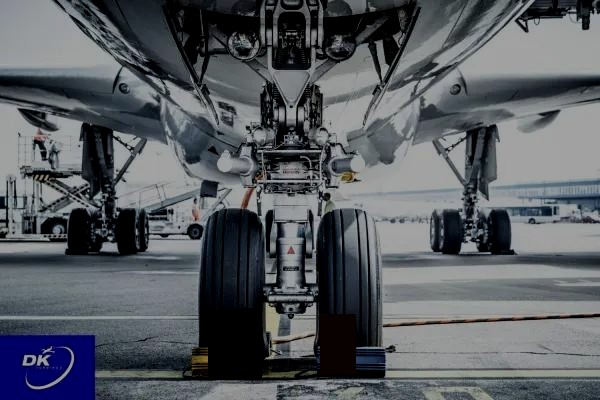chock: (188, 344, 263, 378), (317, 343, 387, 377), (490, 247, 517, 257), (64, 247, 89, 256)
wheel: (314, 208, 383, 375), (195, 209, 265, 361), (66, 207, 103, 253), (115, 207, 147, 253), (480, 208, 511, 254), (429, 208, 460, 253), (473, 211, 492, 252), (41, 217, 69, 241), (87, 210, 103, 251), (428, 209, 443, 251), (136, 209, 149, 251), (264, 208, 275, 255), (304, 208, 314, 254), (187, 223, 203, 239)
